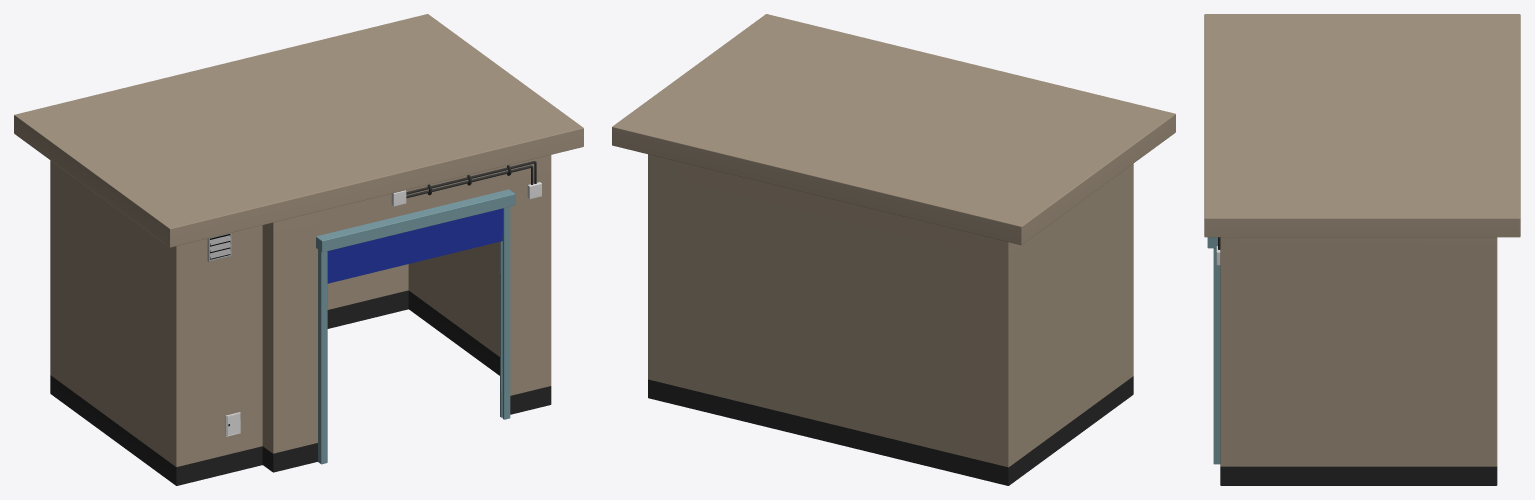
Rendered from Garage_high.fbx.
The picture shows the model from 3 angles, left to right: view 1: azimuth 30°, elevation 25°; view 2: azimuth 150°, elevation 25°; view 3: azimuth 270°, elevation 25°; orthographic projection. The views are drawn at different scales.
Visible parts, largest first — view 1: pCube9; view 2: pCube9; view 3: pCube9.
Boxes of the visible parts, x1=… form: pCube9: x1=14, y1=14, x2=583, y2=485; pCube9: x1=612, y1=14, x2=1175, y2=485; pCube9: x1=1204, y1=14, x2=1520, y2=485.
Size of the model in its own units: 1135 by 725 by 741.
